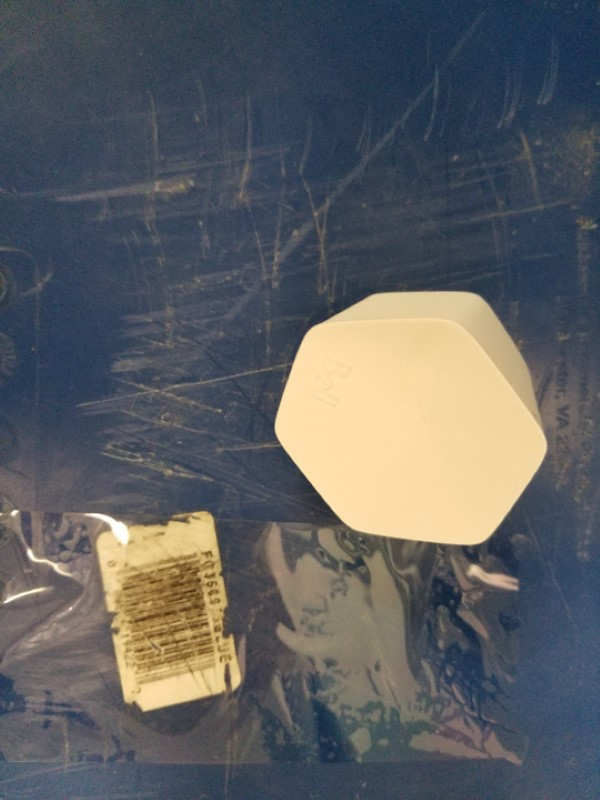pod: (270, 287, 552, 560)
